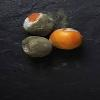Orange Rotten: (50, 25, 86, 51), (21, 10, 55, 36), (20, 33, 54, 59)
